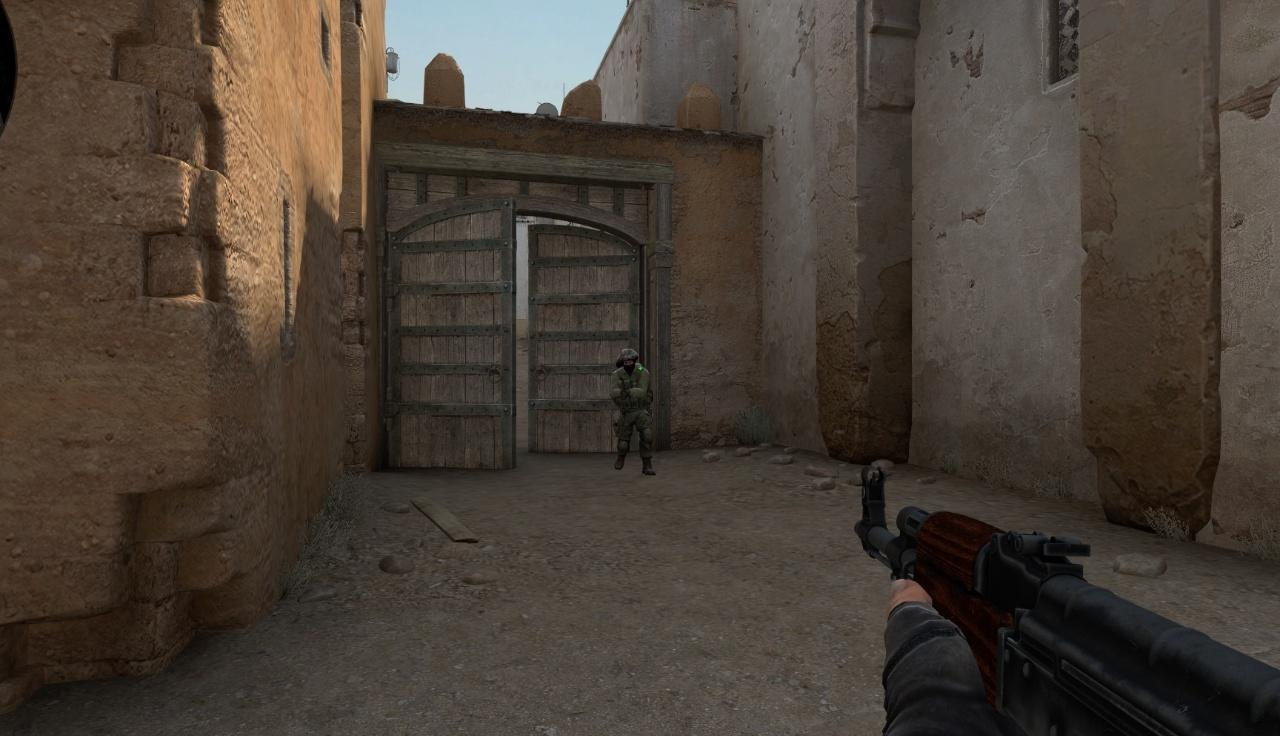ct: (610, 350, 654, 474)
cthead: (621, 349, 637, 370)
rifle: (852, 467, 1280, 736)
